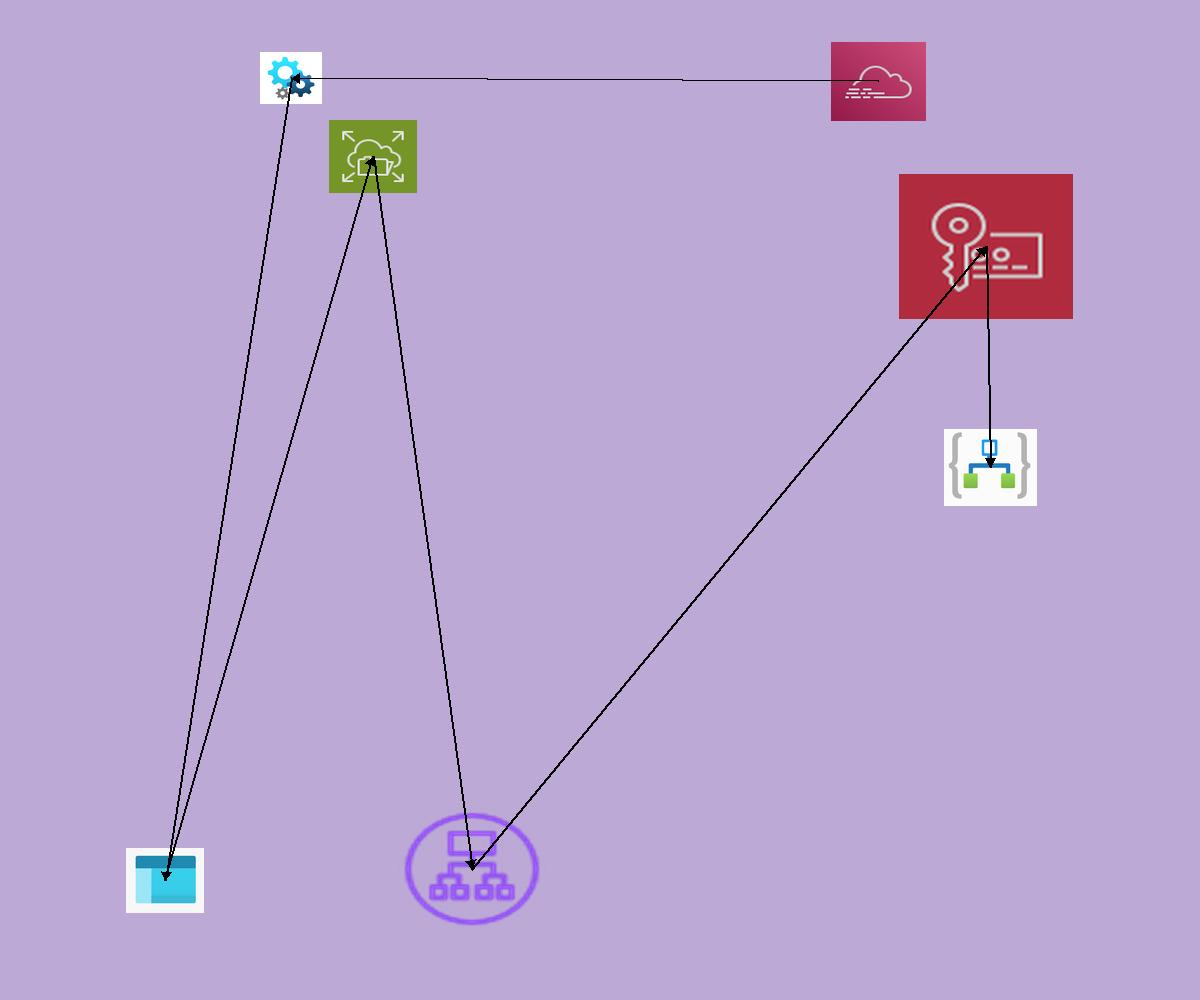AWS-CloudTrail: (831, 42, 926, 121)
AWS-EFS: (329, 120, 417, 193)
AWS-Key-Management-Service: (899, 174, 1073, 319)
AWS-Res_Elastic-Load-Balancing_Application-Load-Balancer: (399, 808, 545, 930)
Azure_api: (260, 52, 322, 104)
Azure_integration-204-Logic-Apps: (944, 429, 1037, 506)
Azure_management-portal: (126, 848, 204, 913)
